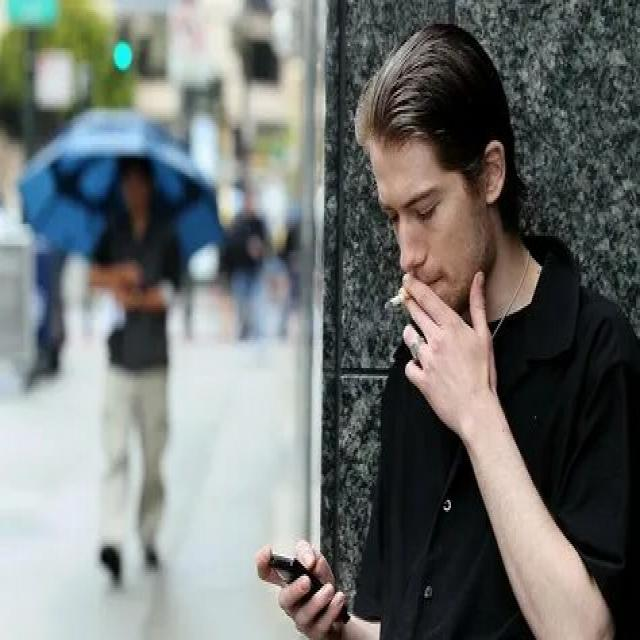cigarette: (382, 290, 413, 314)
